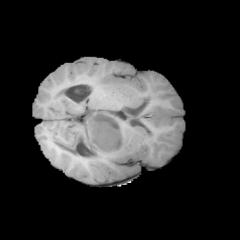glioma: (85, 112, 128, 154)
